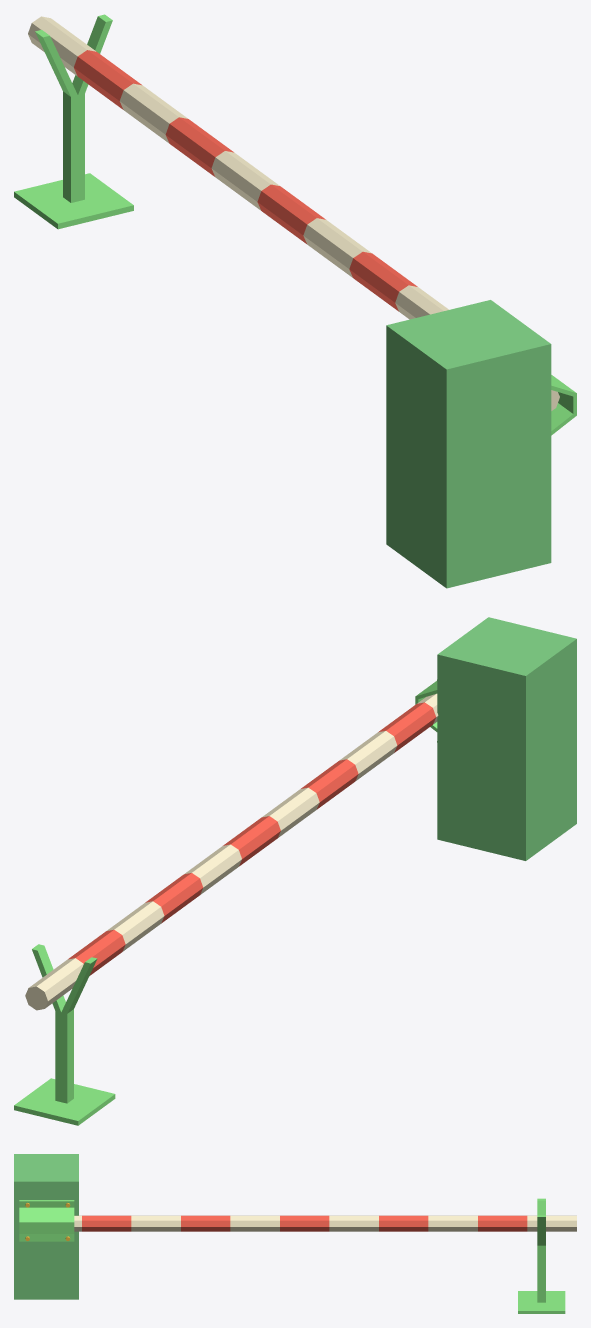
Rendered from ParkBarrier_v2.fbx.
The picture shows the model from 3 angles, top to bottom: view 1: azimuth 30°, elevation 25°; view 2: azimuth 150°, elevation 25°; view 3: azimuth 270°, elevation 25°; orthographic projection. The views are drawn at different scales.
Visible parts, largest first — view 1: BarrierCube.002, BarrierArmOver.002, BarrierHolder.002; view 2: BarrierCube.002, BarrierArmOver.002, BarrierHolder.002; view 3: BarrierArmOver.002, BarrierCube.002, BarrierHolder.002.
Part boxes in pixels (x1,y1,x2,y2): BarrierCube.002: (386,300,551,588); BarrierArmOver.002: (28,16,576,435); BarrierHolder.002: (14,14,133,229); BarrierCube.002: (437,617,576,860); BarrierArmOver.002: (25,679,438,1010); BarrierHolder.002: (14,944,115,1125); BarrierArmOver.002: (19,1200,576,1241); BarrierCube.002: (14,1154,78,1299); BarrierHolder.002: (518,1198,565,1313).
Size of the model in its own units: 99.47 by 136 by 582.
